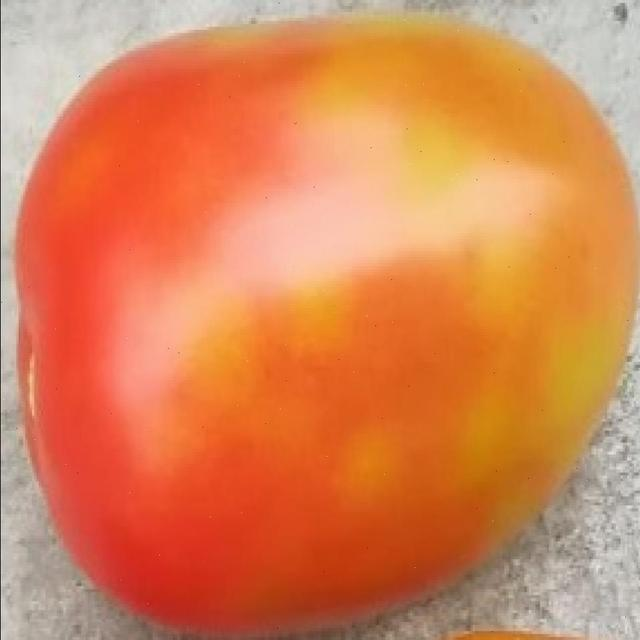Spotted wilt Virus Fruit: (216, 65, 620, 143)
